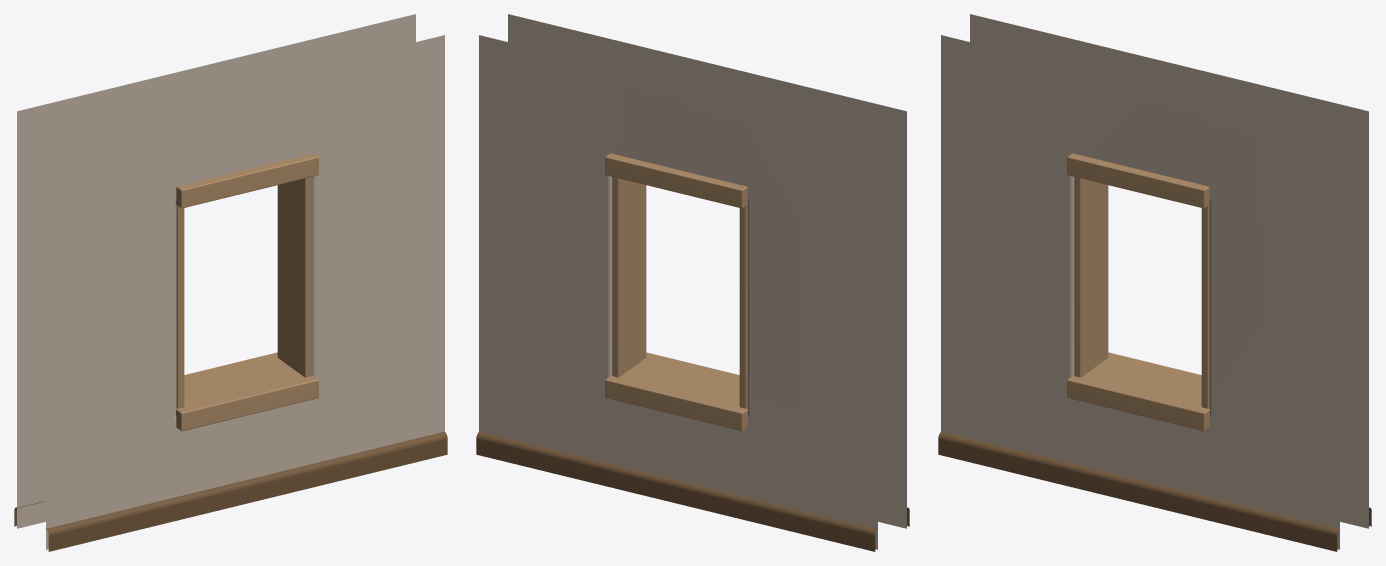
File: SM_Building_Window_01.fbx
3 renders of one model, left to right at view 1: azimuth 30°, elevation 25°; view 2: azimuth 150°, elevation 25°; view 3: azimuth 330°, elevation 25°, orthographic.
Parts seen in each view (by area): view 1: SM_Wall_01.003, Cube.001, Cube, Cube.003; view 2: SM_Wall_01.003, Cube.001, Cube, Cube.003; view 3: SM_Wall_01.003, Cube.001, Cube, Cube.003.
Boxes of the visible parts, x1,y1,x2,y2 form: SM_Wall_01.003: (14, 14, 447, 551); Cube.001: (176, 177, 311, 408); Cube: (176, 352, 318, 431); Cube.003: (176, 153, 318, 208); SM_Wall_01.003: (476, 14, 909, 551); Cube.001: (612, 177, 747, 408); Cube: (605, 352, 747, 431); Cube.003: (605, 153, 747, 208); SM_Wall_01.003: (938, 14, 1371, 551); Cube.001: (1074, 177, 1209, 408); Cube: (1067, 352, 1209, 431); Cube.003: (1067, 153, 1209, 208).
Size of the model in its own units: 400 by 400 by 67.41.
